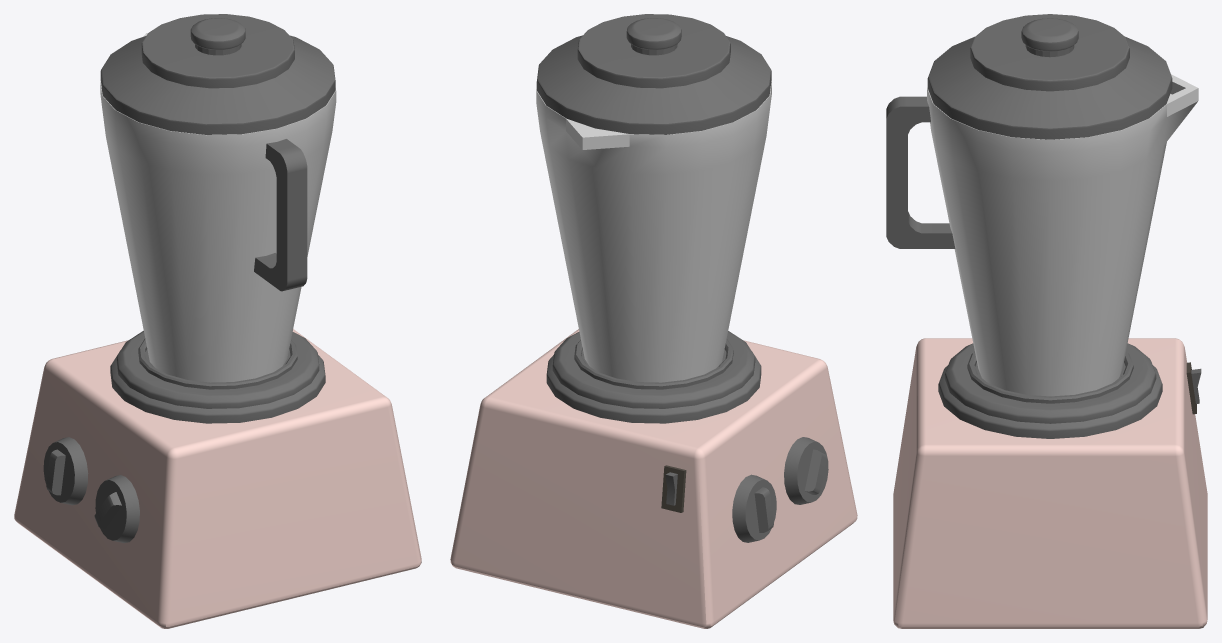
Rendered from Blender.fbx.
3 renders of one model, left to right at view 1: azimuth 30°, elevation 25°; view 2: azimuth 150°, elevation 25°; view 3: azimuth 270°, elevation 25°, orthographic. The views are drawn at different scales.
Visible parts, largest first — view 1: polySurface930; view 2: polySurface930; view 3: polySurface930.
Part boxes in pixels (x1=…): polySurface930: x1=14, y1=14, x2=421, y2=628; polySurface930: x1=450, y1=14, x2=857, y2=628; polySurface930: x1=886, y1=14, x2=1207, y2=628.
Size of the model in its own units: 28.56 by 51.6 by 27.96.
